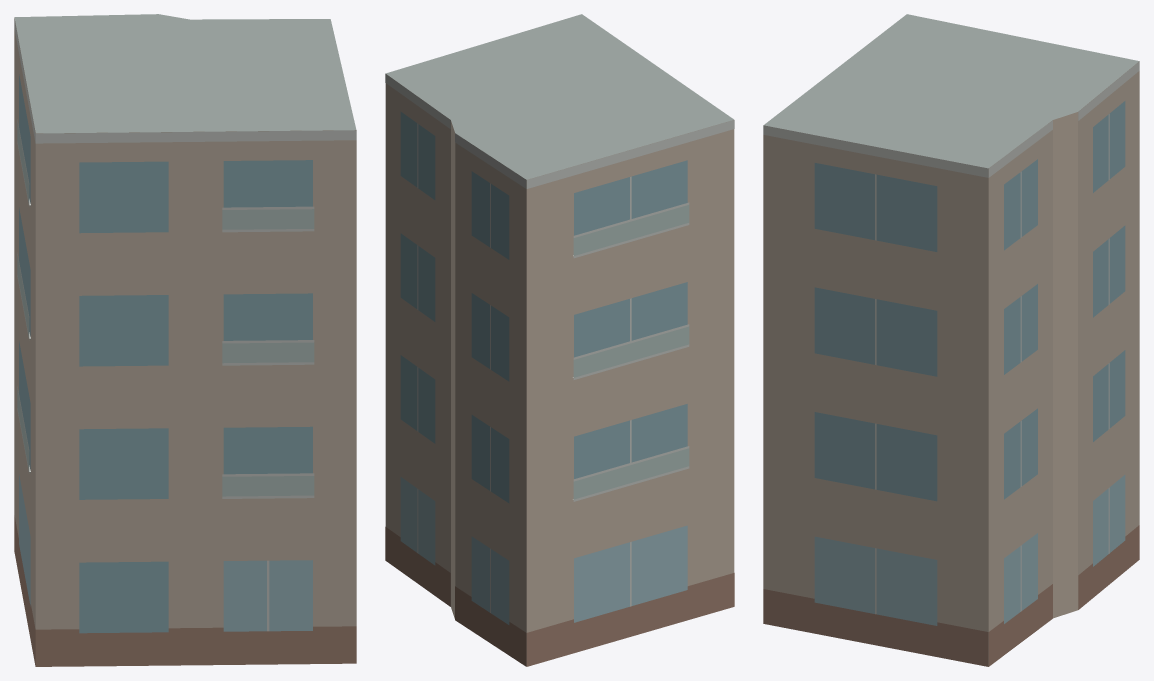
The model's file is survey-upis-32940972.glb.
The picture shows the model from 3 angles, left to right: view 1: azimuth 30°, elevation 25°; view 2: azimuth 150°, elevation 25°; view 3: azimuth 270°, elevation 25°; orthographic projection. The views are drawn at different scales.
Visible parts, largest first — view 1: survey-upis-32940972.tmp; view 2: survey-upis-32940972.tmp; view 3: survey-upis-32940972.tmp.
Part boxes in pixels (x1=…): survey-upis-32940972.tmp: x1=14, y1=14, x2=356, y2=666; survey-upis-32940972.tmp: x1=385, y1=14, x2=734, y2=666; survey-upis-32940972.tmp: x1=763, y1=14, x2=1139, y2=666.
Size of the model in its own units: 8.51 by 12.8 by 8.76.
